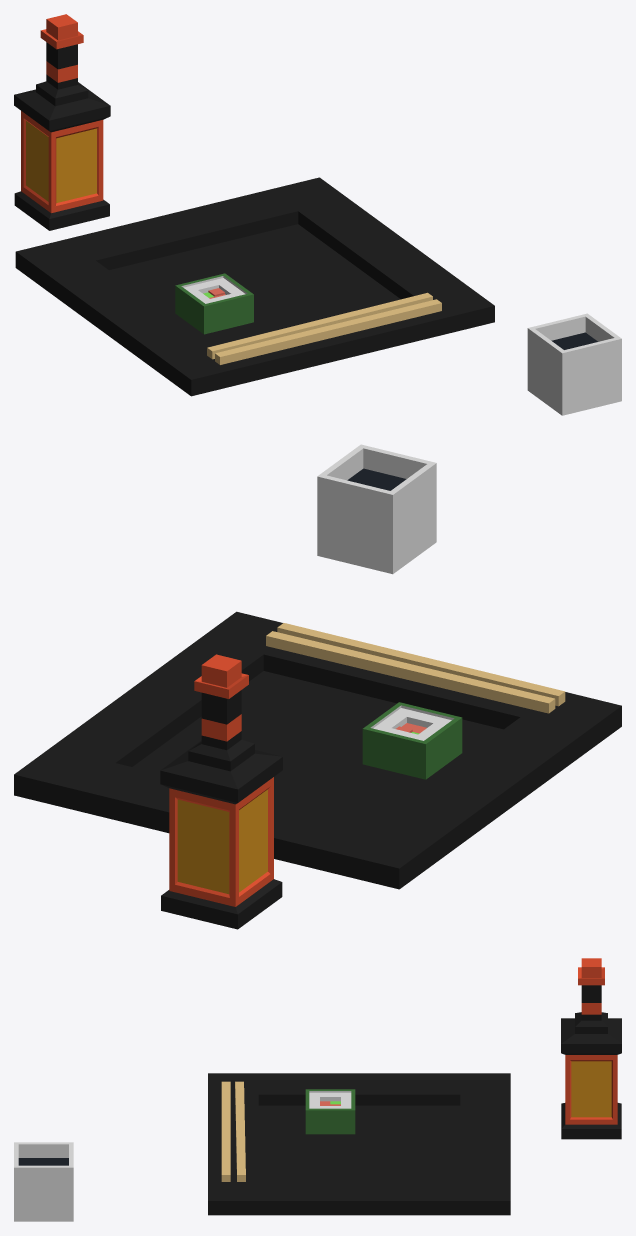
File: sushi.glb
The picture shows the model from 3 angles, top to bottom: view 1: azimuth 30°, elevation 25°; view 2: azimuth 150°, elevation 25°; view 3: azimuth 270°, elevation 25°; orthographic projection. The views are drawn at different scales.
Parts seen in each view (by area): view 1: Plate, Bottle, Sauce.001, Sushi, Chopstick.001, Chopstick; view 2: Plate, Bottle, Sauce.001, Sushi, Chopstick, Chopstick.001; view 3: Plate, Bottle, Sauce.001, Sushi, Chopstick.001, Chopstick.
Part boxes in pixels (x1,y1,x2,y2): Plate: (15, 177, 494, 396); Bottle: (14, 14, 110, 230); Sauce.001: (527, 313, 621, 415); Sushi: (175, 273, 253, 334); Chopstick.001: (215, 299, 441, 364); Chopstick: (207, 292, 432, 359); Plate: (14, 611, 621, 889); Bottle: (160, 654, 282, 929); Sauce.001: (317, 444, 436, 574); Sushi: (362, 702, 462, 779); Chopstick: (266, 631, 555, 713); Chopstick.001: (277, 623, 565, 706); Plate: (208, 1073, 510, 1215); Bottle: (561, 958, 621, 1139); Sauce.001: (14, 1142, 73, 1221); Sushi: (305, 1089, 355, 1134); Chopstick.001: (221, 1081, 230, 1181); Chopstick: (235, 1081, 245, 1181).
Bounding box in the file's own units: 4.17 × 2.38 × 8.
